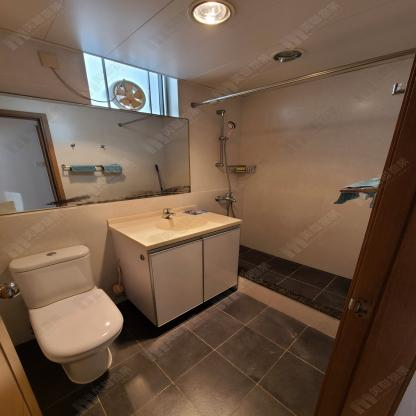Exhaust Fan: (107, 75, 150, 112)
Toilet: (8, 244, 125, 383)
Toilet Sink: (107, 208, 242, 250)
Water Cubicle: (190, 44, 416, 342)
